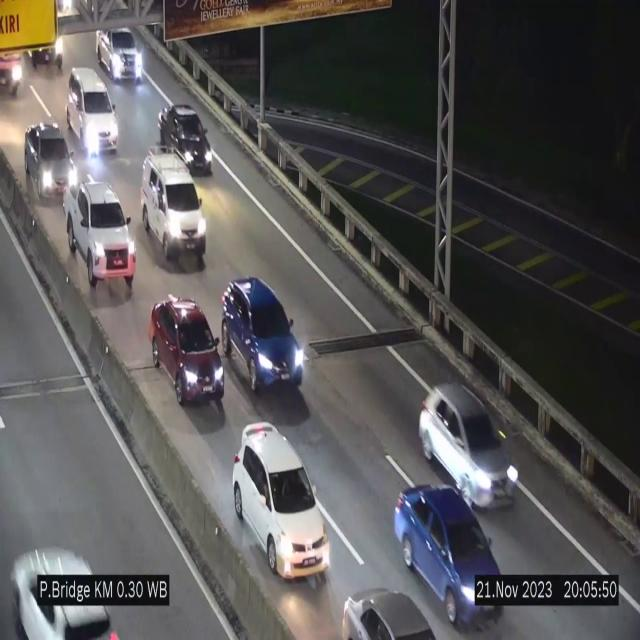Car: (394, 486, 504, 630), (233, 423, 329, 581), (420, 384, 520, 506), (9, 536, 121, 640), (222, 277, 306, 391), (58, 184, 139, 292), (151, 298, 227, 409), (142, 149, 206, 267), (338, 579, 445, 640), (22, 121, 87, 212), (67, 68, 119, 153), (159, 102, 213, 174), (93, 17, 141, 83)
